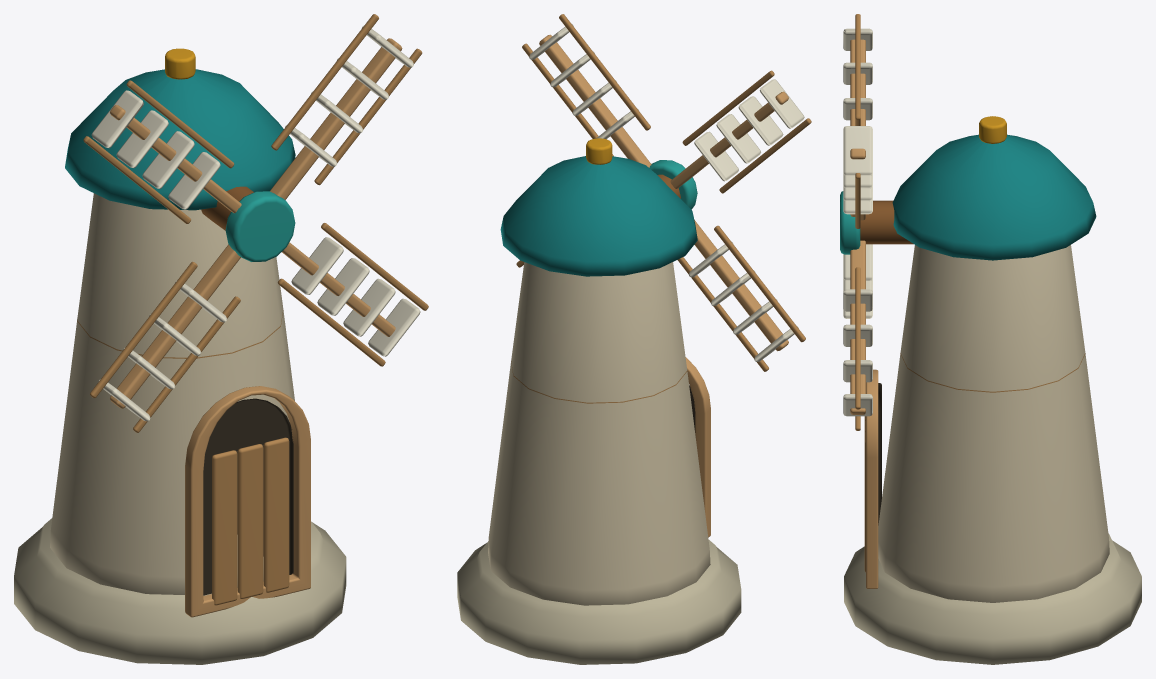
File: windmill.glb
3 views of the same model, side by side, from view 1: azimuth 30°, elevation 25°; view 2: azimuth 150°, elevation 25°; view 3: azimuth 270°, elevation 25° (orthographic). The views are drawn at different scales.
Parts seen in each view (by area): view 1: windmill_FARM_VERTEX_COLOR, windmill-rotor; view 2: windmill_FARM_VERTEX_COLOR, windmill-rotor; view 3: windmill_FARM_VERTEX_COLOR, windmill-rotor.
Part boxes in pixels (box(x1,y1,x2,y2)): windmill_FARM_VERTEX_COLOR: box(14, 48, 346, 664); windmill-rotor: box(83, 14, 428, 432); windmill_FARM_VERTEX_COLOR: box(457, 138, 741, 664); windmill-rotor: box(516, 14, 811, 371); windmill_FARM_VERTEX_COLOR: box(844, 116, 1141, 664); windmill-rotor: box(840, 14, 872, 430).
Bounding box in the file's own units: 2.25 × 3.8 × 1.93.
